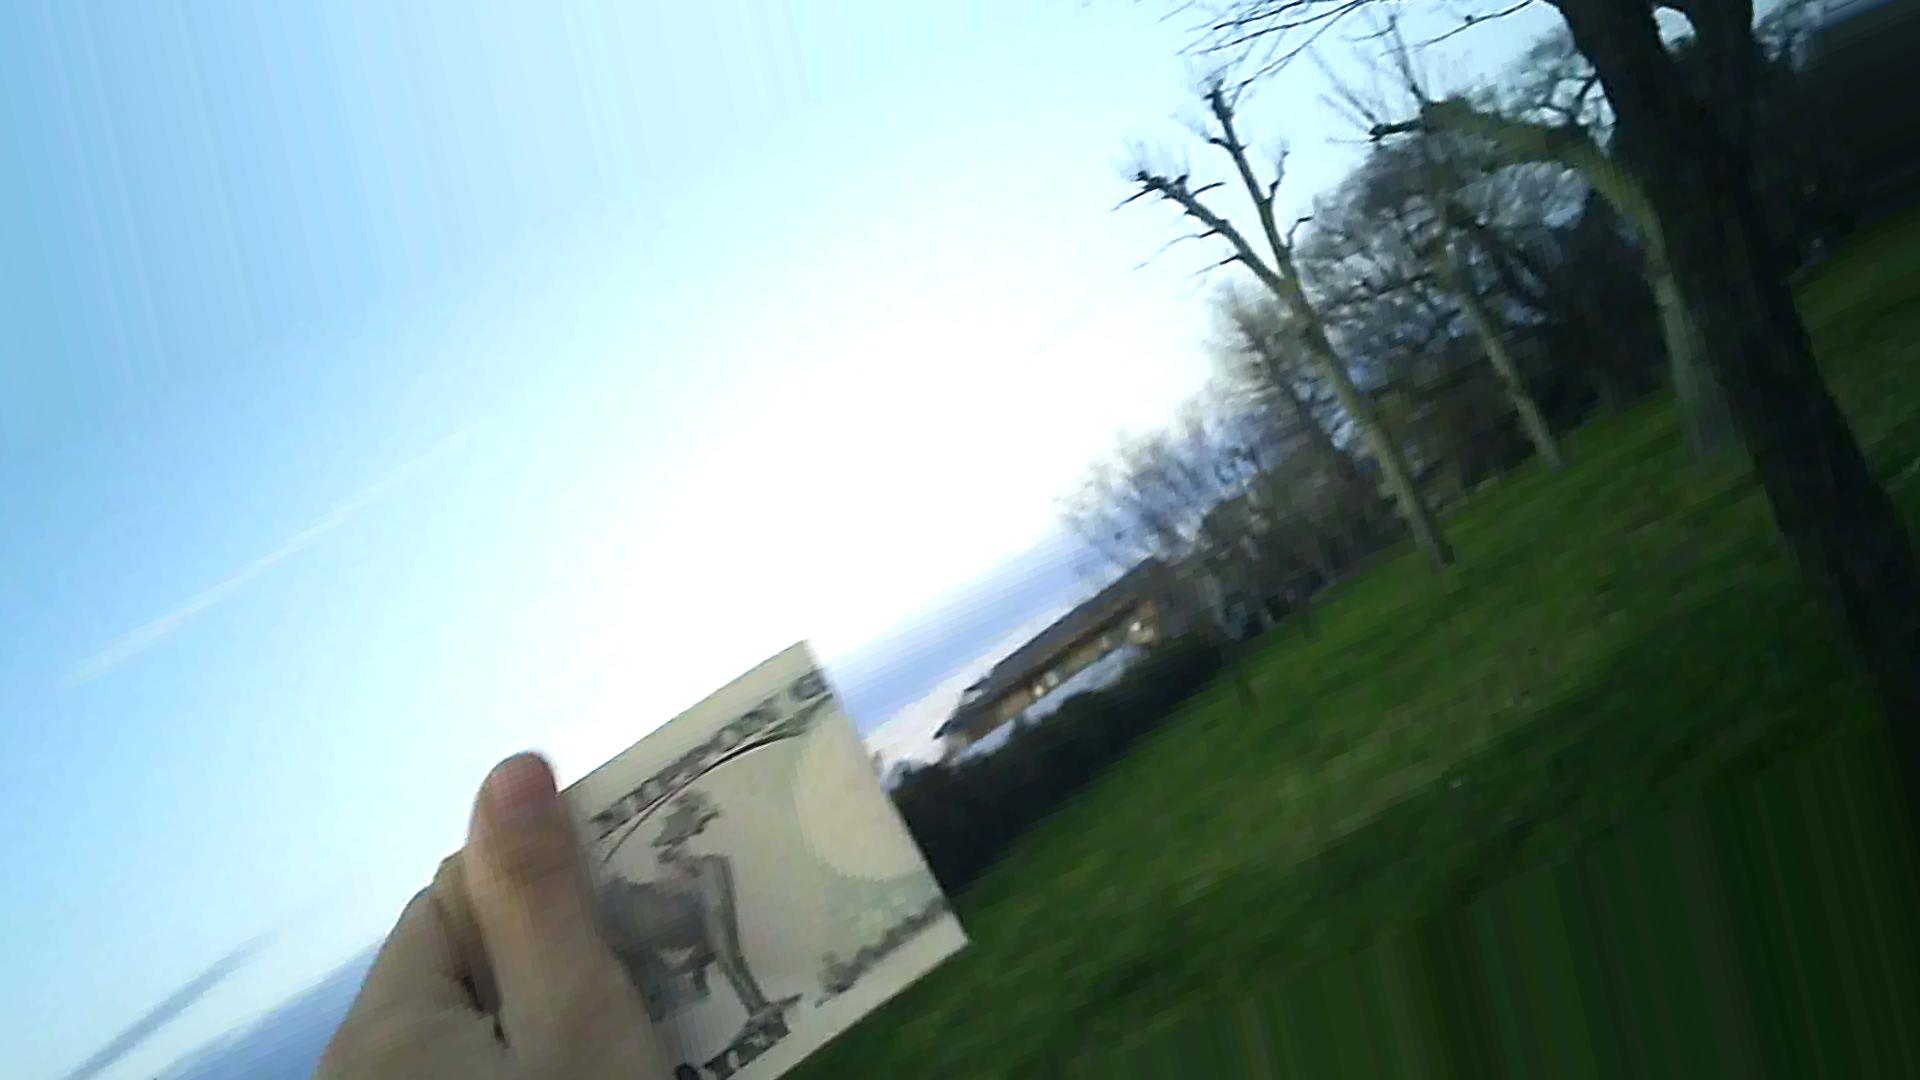10,000 Yen: (454, 637, 957, 1079)
